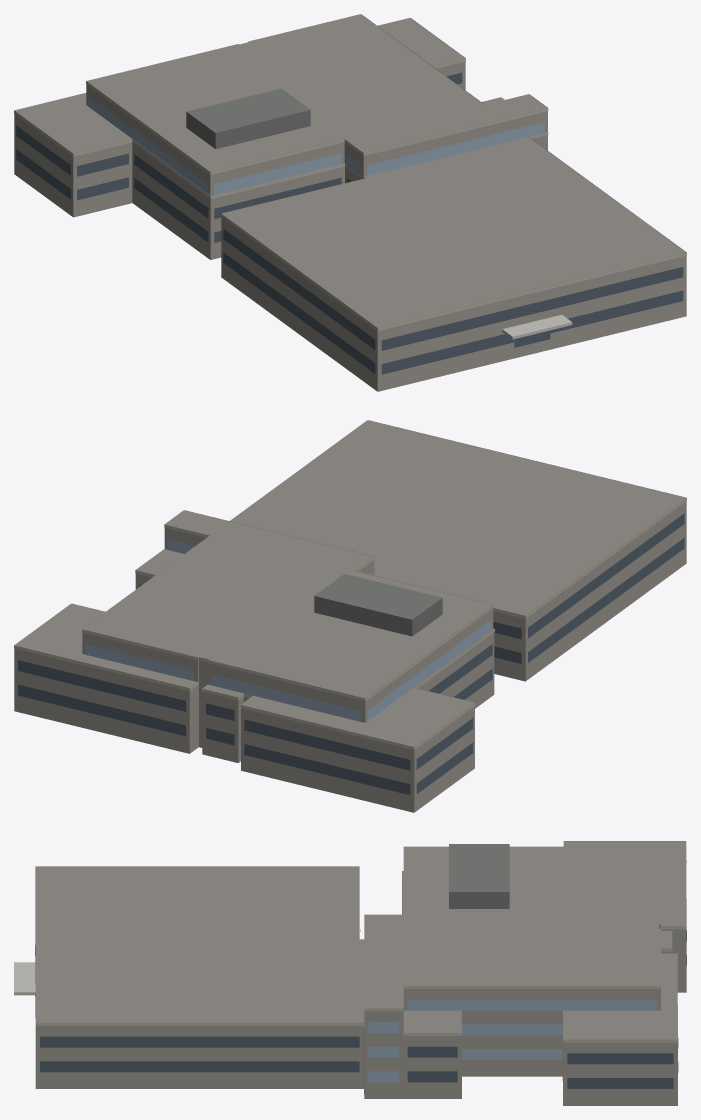
The model's file is parkin-building.glb.
3 views of the same model, one above another, from view 1: azimuth 30°, elevation 25°; view 2: azimuth 150°, elevation 25°; view 3: azimuth 270°, elevation 25° (orthographic). The views are drawn at different scales.
Visible parts, largest first — view 1: parkin_building; view 2: parkin_building; view 3: parkin_building.
Part boxes in pixels (x1,y1,x2,y2): parkin_building: [14, 14, 686, 391]; parkin_building: [14, 420, 686, 812]; parkin_building: [14, 841, 686, 1105].
Size of the model in its own units: 65.77 by 16.61 by 94.13.
